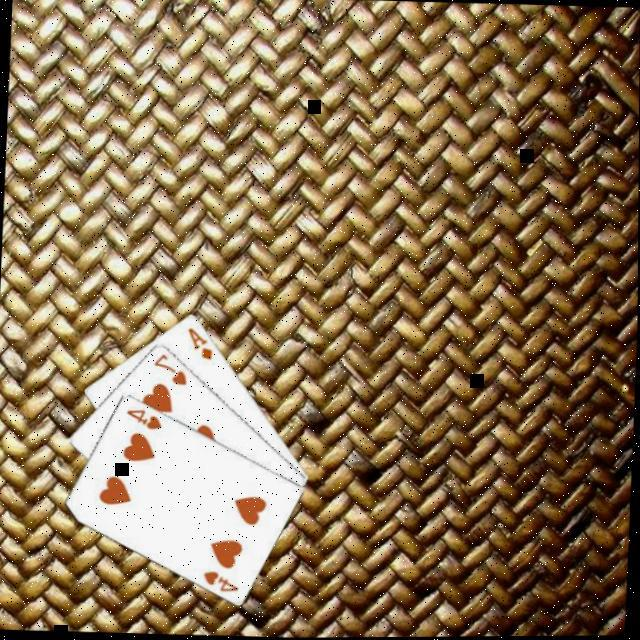4H: (200, 565, 243, 592), (124, 403, 166, 430)
7H: (152, 348, 192, 385)
AD: (184, 322, 217, 361)
